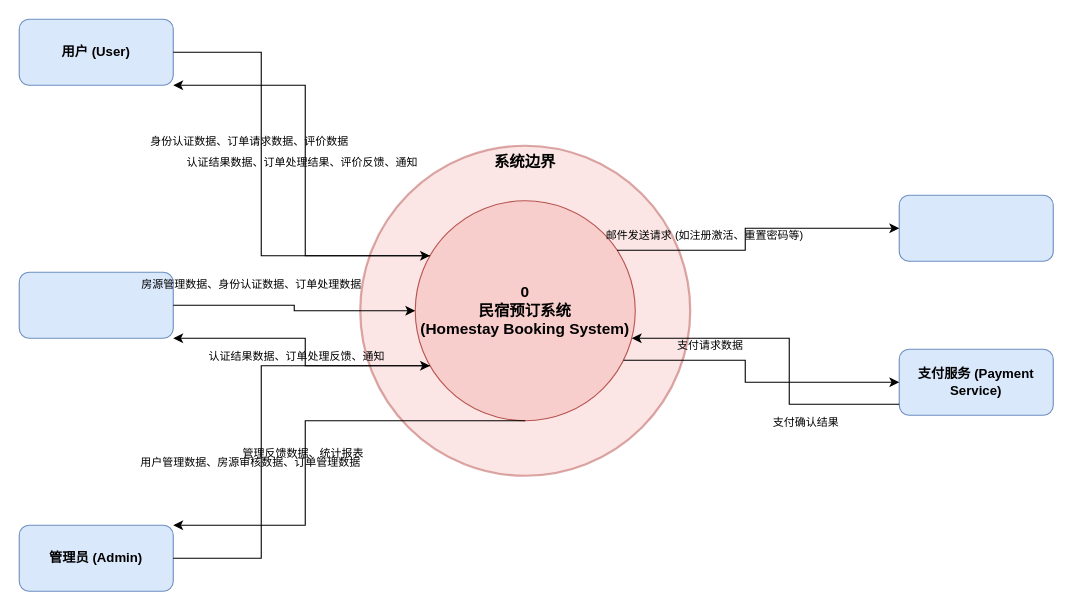
Image size: 1073x611. Some labels were removed from this diagram. Each missing label, with the centre of its shape:
"房东 (Host)" belongs at point 95,304.
"邮件服务 (Email Service)" belongs at point 975,227.
